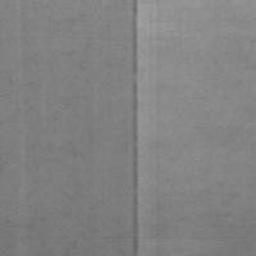Welding line: (131, 0, 141, 255)
